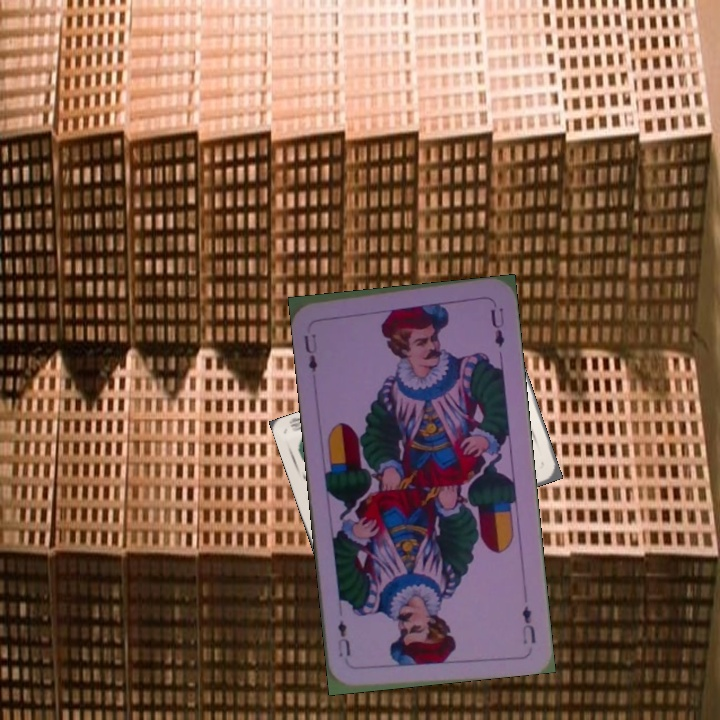EU: (518, 601, 538, 647), (300, 330, 320, 374)
